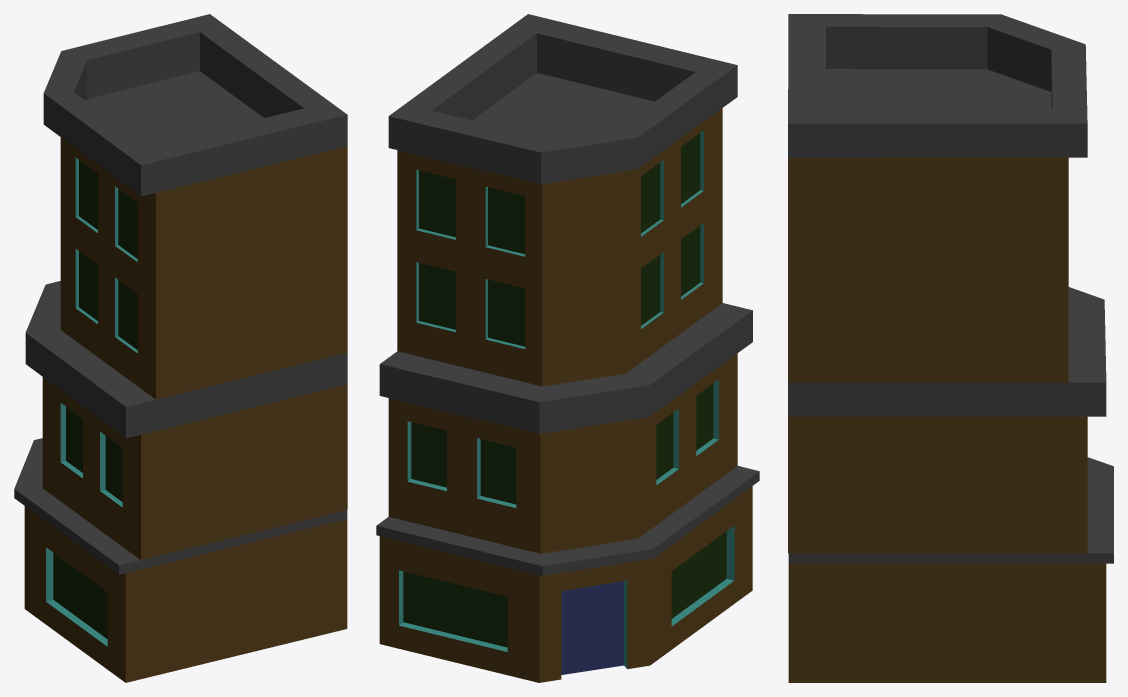
File: CityBlockHouse04.FBX
3 views of the same model, side by side, from view 1: azimuth 30°, elevation 25°; view 2: azimuth 150°, elevation 25°; view 3: azimuth 270°, elevation 25° (orthographic). The views are drawn at different scales.
Parts seen in each view (by area): view 1: CityBlockHouse01; view 2: CityBlockHouse01; view 3: CityBlockHouse01.
Part boxes in pixels (left/top/right/bottom): CityBlockHouse01: left=14, top=14, right=347, bottom=682; CityBlockHouse01: left=376, top=14, right=759, bottom=682; CityBlockHouse01: left=788, top=14, right=1113, bottom=682.
Bounding box in the file's own units: 1101 × 2368 × 1250.
